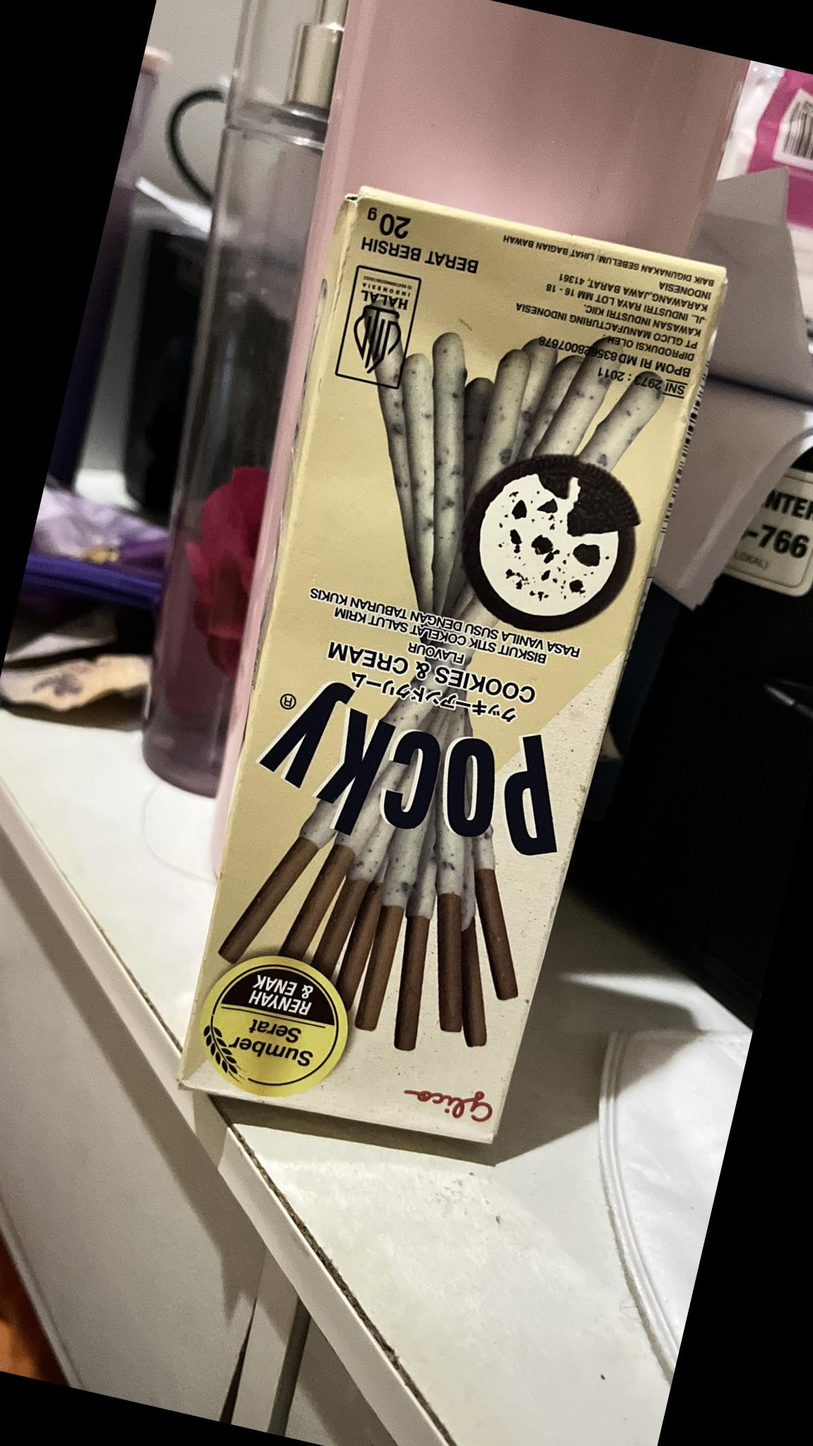Kertas: (174, 191, 733, 1155)
